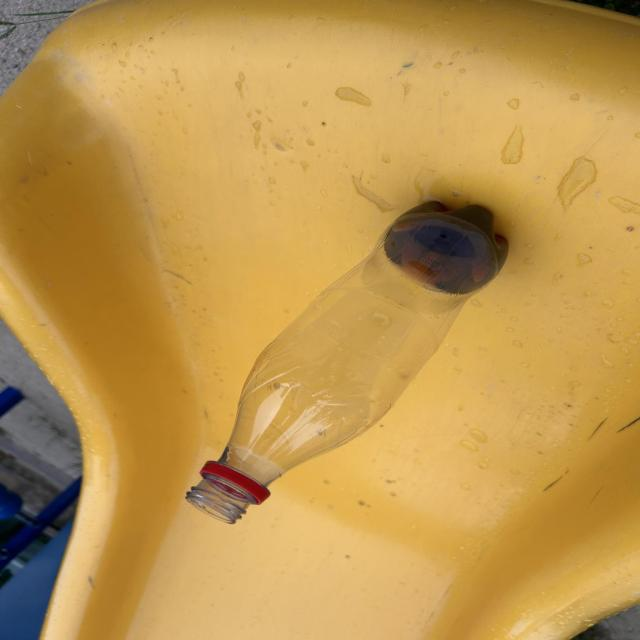low: (185, 201, 508, 523)
